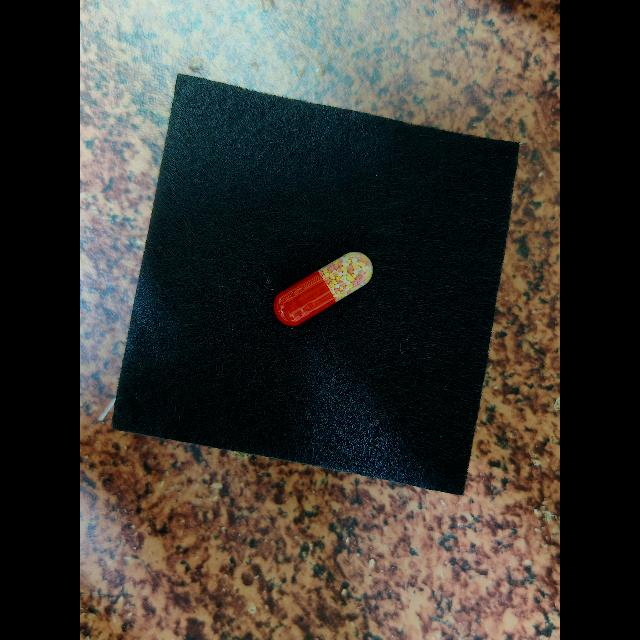Intact Capsule: (273, 252, 373, 326)
